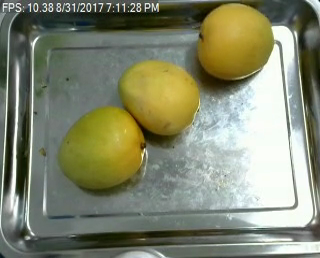Mango: (56, 102, 148, 194), (119, 54, 203, 136), (197, 2, 275, 80)
